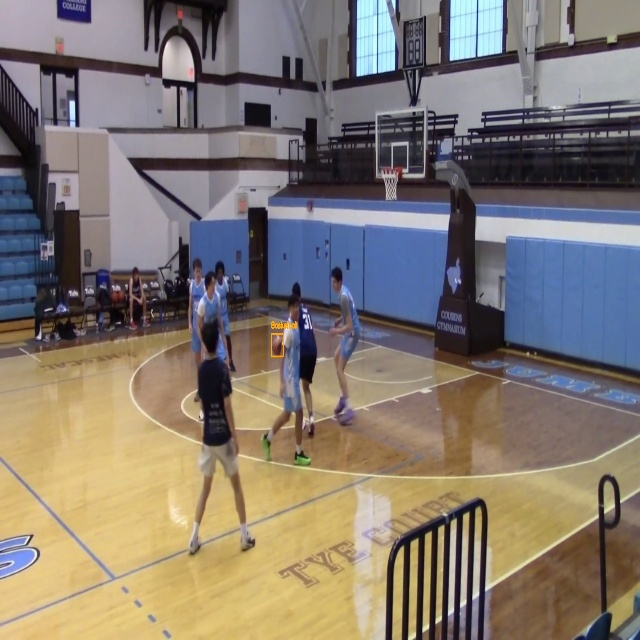Basketball: (271, 334, 283, 357)
